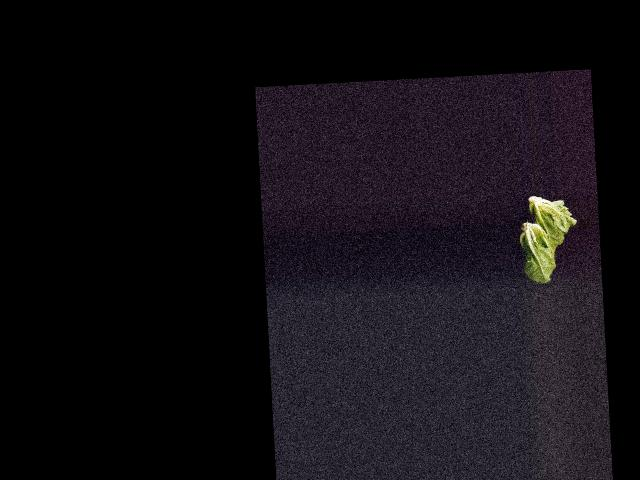lettuce: (521, 193, 577, 257)
